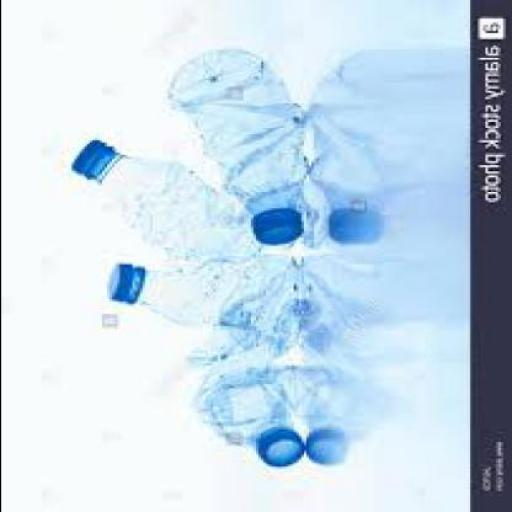plastic: (164, 46, 310, 244), (68, 138, 280, 260), (103, 256, 308, 357), (190, 358, 300, 464), (250, 206, 303, 244), (68, 138, 114, 178), (252, 425, 300, 462), (106, 262, 141, 302)
